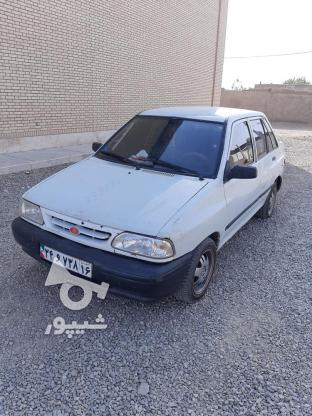car: (38, 242, 93, 279)
